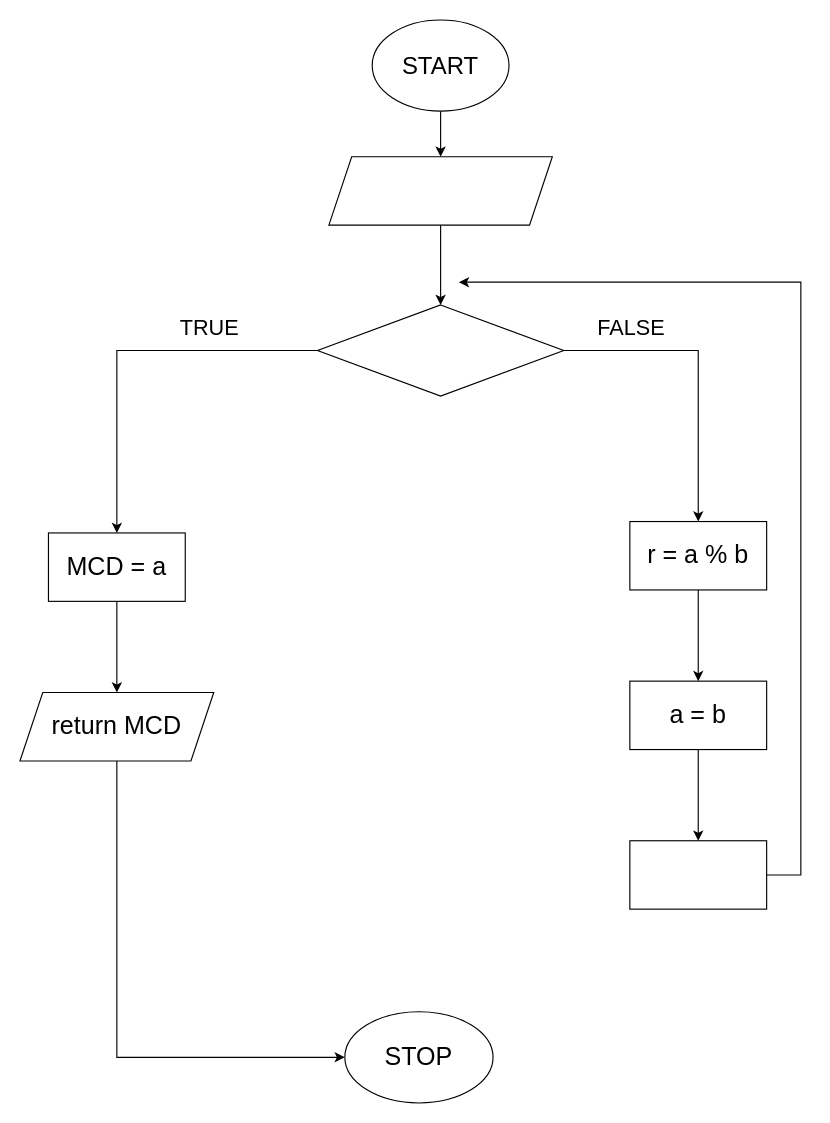
Some shapes in this 830 by 1123 pixel diagram are drawn without their labels. Here are the shapes that lost their labels. From the top down, the centre of each, then its label:
At point 440,190: "a, b (interi positivi)".
At point 440,350: "b è uguale a 0?".
At point 698,874: "b = r".
